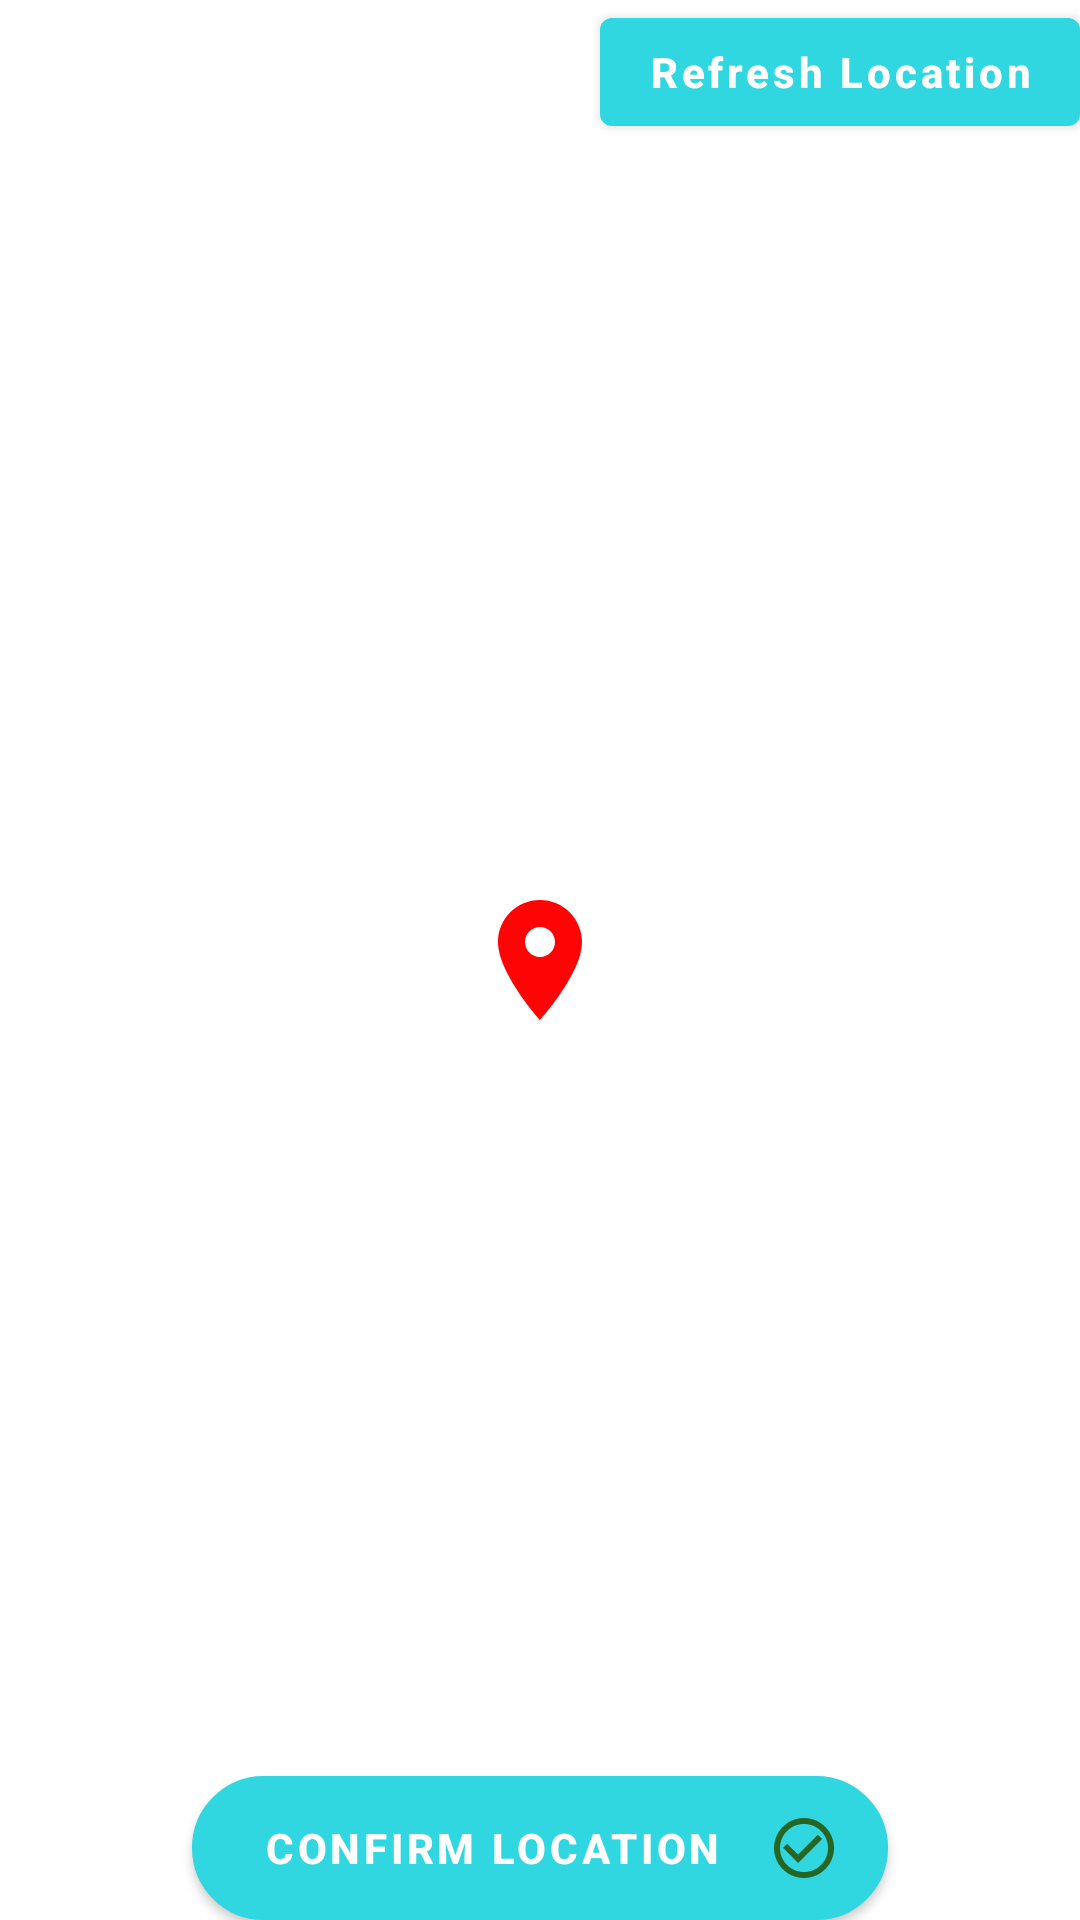

Named icons in this screenshot (1080×1920) and their centers, [x,y]:
center marker: [540,960]
